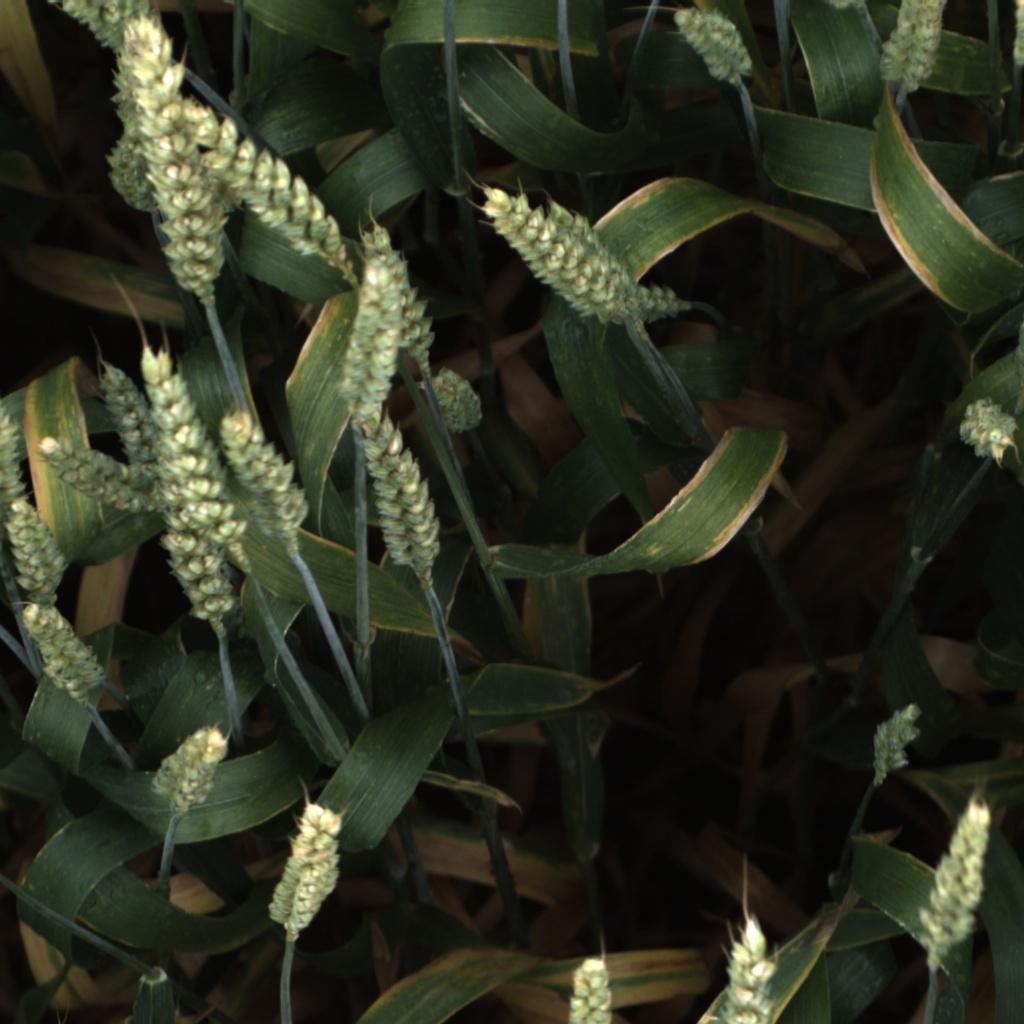0-0: (178, 94, 352, 268), (126, 13, 231, 301), (139, 329, 255, 567), (481, 183, 632, 327), (348, 411, 457, 589), (916, 792, 1004, 969), (521, 195, 640, 315), (217, 407, 315, 550), (256, 786, 347, 940), (103, 125, 247, 222), (361, 197, 435, 376), (35, 428, 169, 521), (339, 250, 410, 423), (18, 599, 109, 695), (708, 917, 787, 1024), (160, 523, 239, 630), (94, 359, 170, 469), (149, 724, 233, 822), (0, 499, 72, 608), (45, 1, 165, 65), (670, 4, 758, 90), (877, 0, 953, 98), (554, 948, 633, 1024), (860, 694, 924, 787), (956, 392, 1021, 462), (430, 364, 488, 438), (0, 397, 34, 513), (37, 641, 89, 709), (624, 282, 692, 327), (108, 59, 136, 125)
